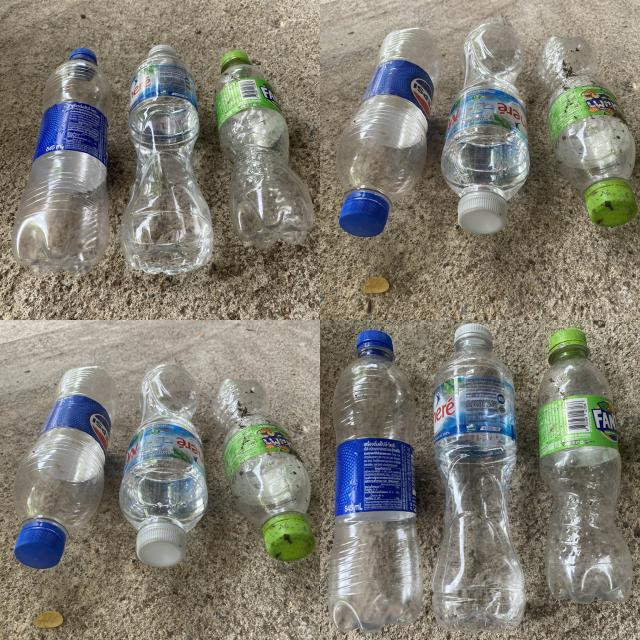plastik: (432, 324, 525, 633), (329, 330, 422, 632), (538, 329, 632, 602), (11, 48, 111, 278), (336, 28, 441, 238), (121, 45, 214, 275), (14, 366, 119, 569), (215, 50, 314, 249), (538, 36, 638, 226), (211, 379, 315, 561), (441, 22, 530, 233), (119, 364, 208, 568)
